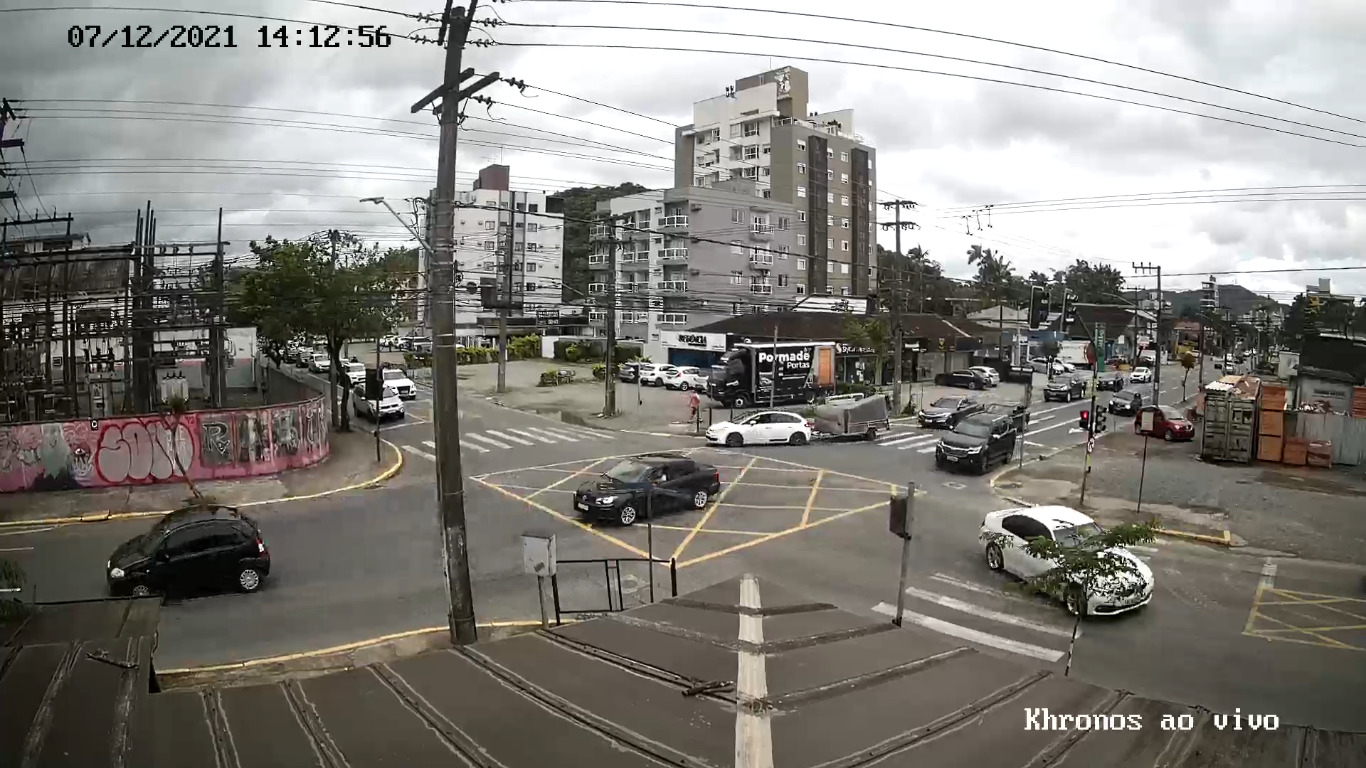car: (980, 506, 1156, 619), (106, 504, 271, 598), (573, 452, 720, 526), (936, 411, 1017, 473), (706, 410, 811, 448)
